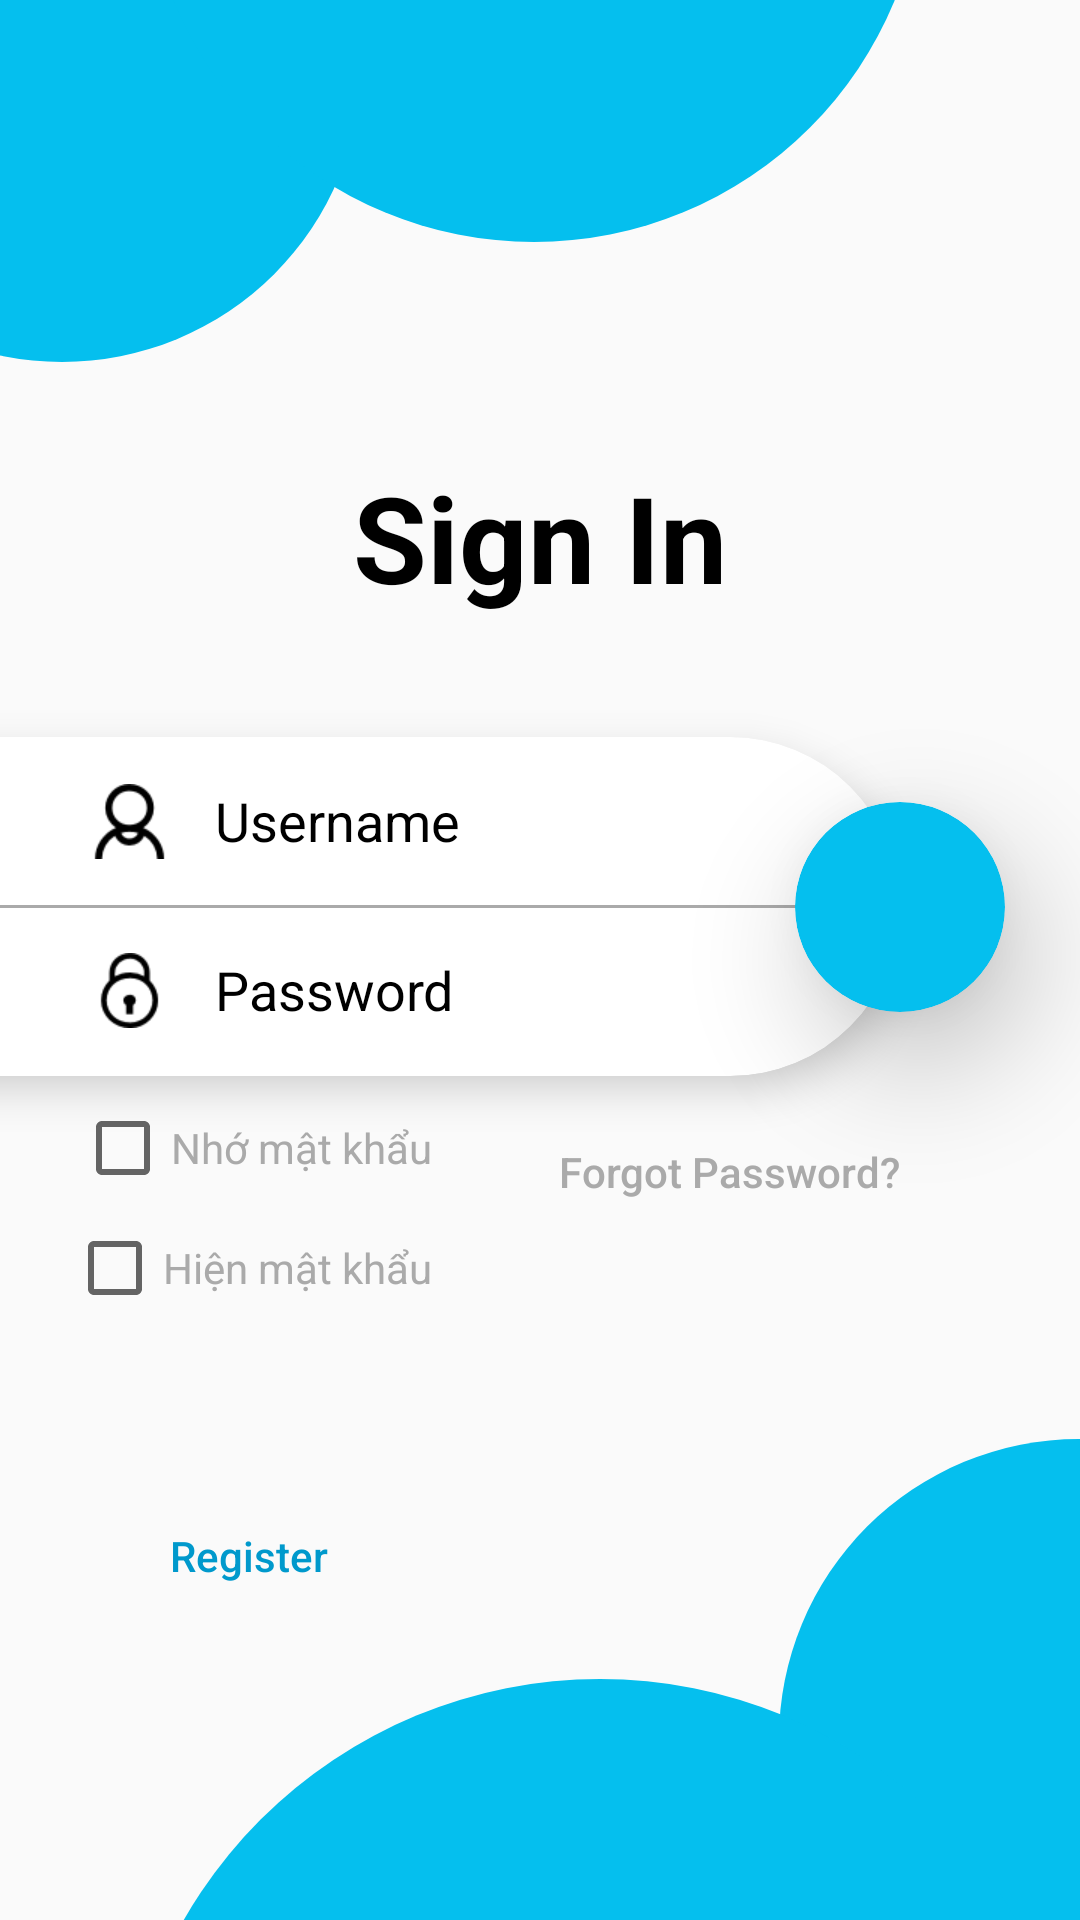

Named icons in this screenshot (1080 x 1920) and their centers, (x,y):
lock: (129,990)
